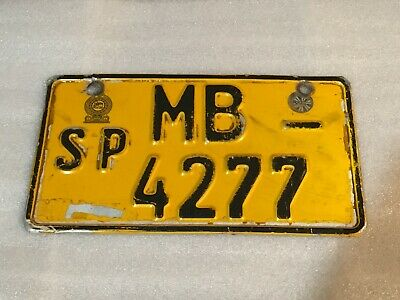doublelinenumberplate: (23, 72, 365, 237)
